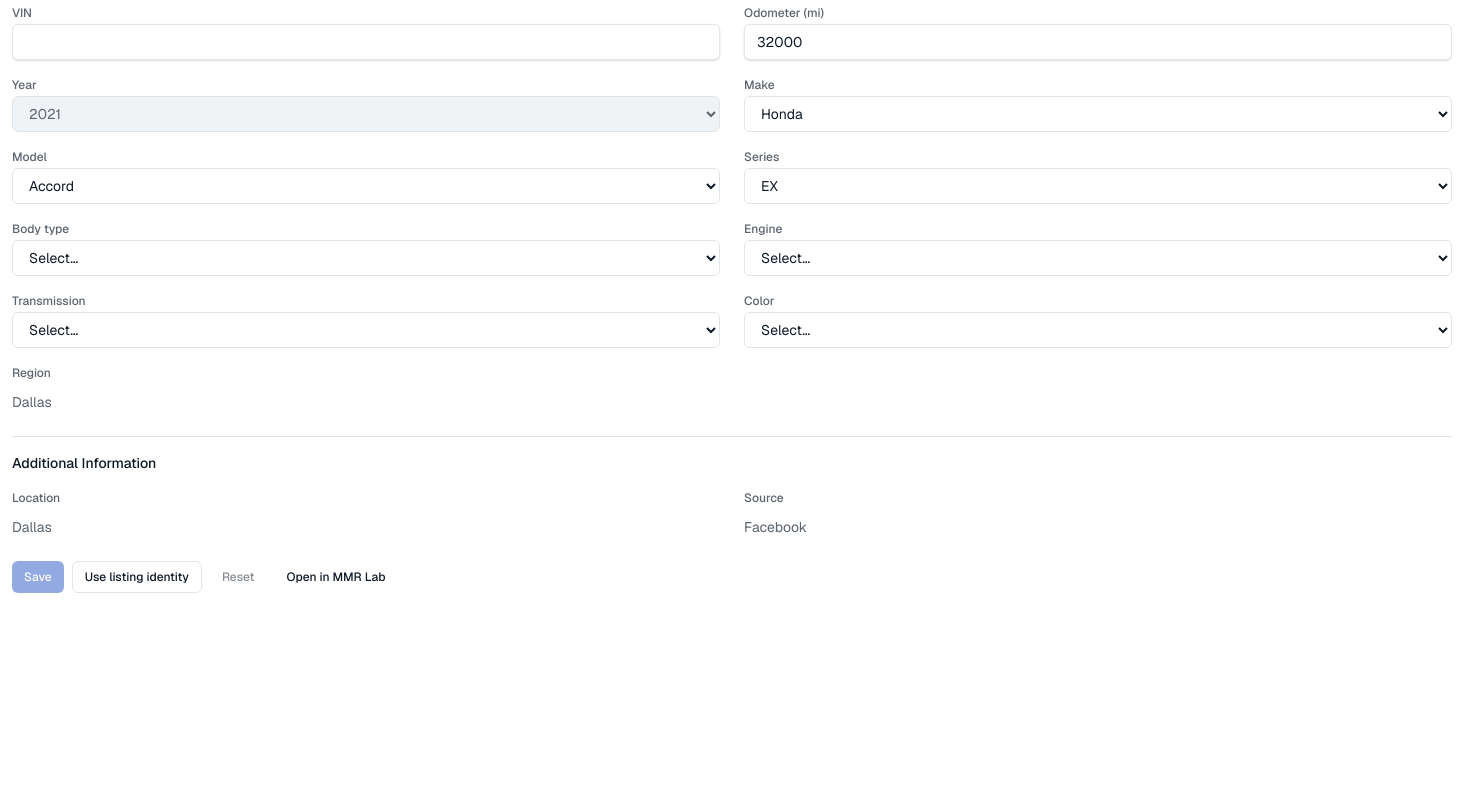
Test: OpportunityVehicleBlock › keeps VIN and existing YMM when decode fails
expect the dropdown labelled "Make" shows "Honda": met, box [744, 96, 1452, 132]
Type "7MUCAAAG7NV022177" into the field labelled "VIN" at [366, 42], box [12, 24, 720, 60]
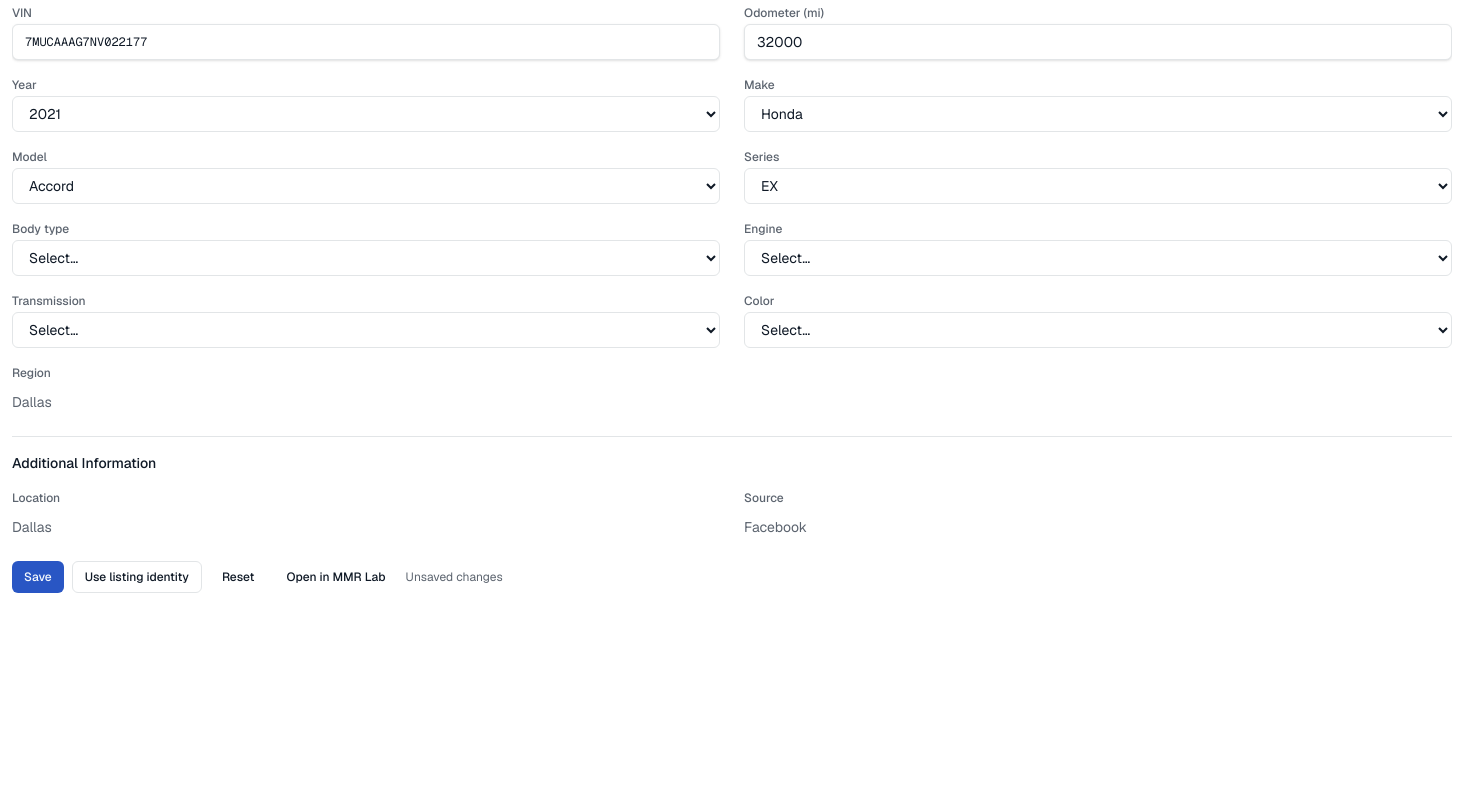
Click the button "Save" at [38, 577], box [12, 561, 64, 593]
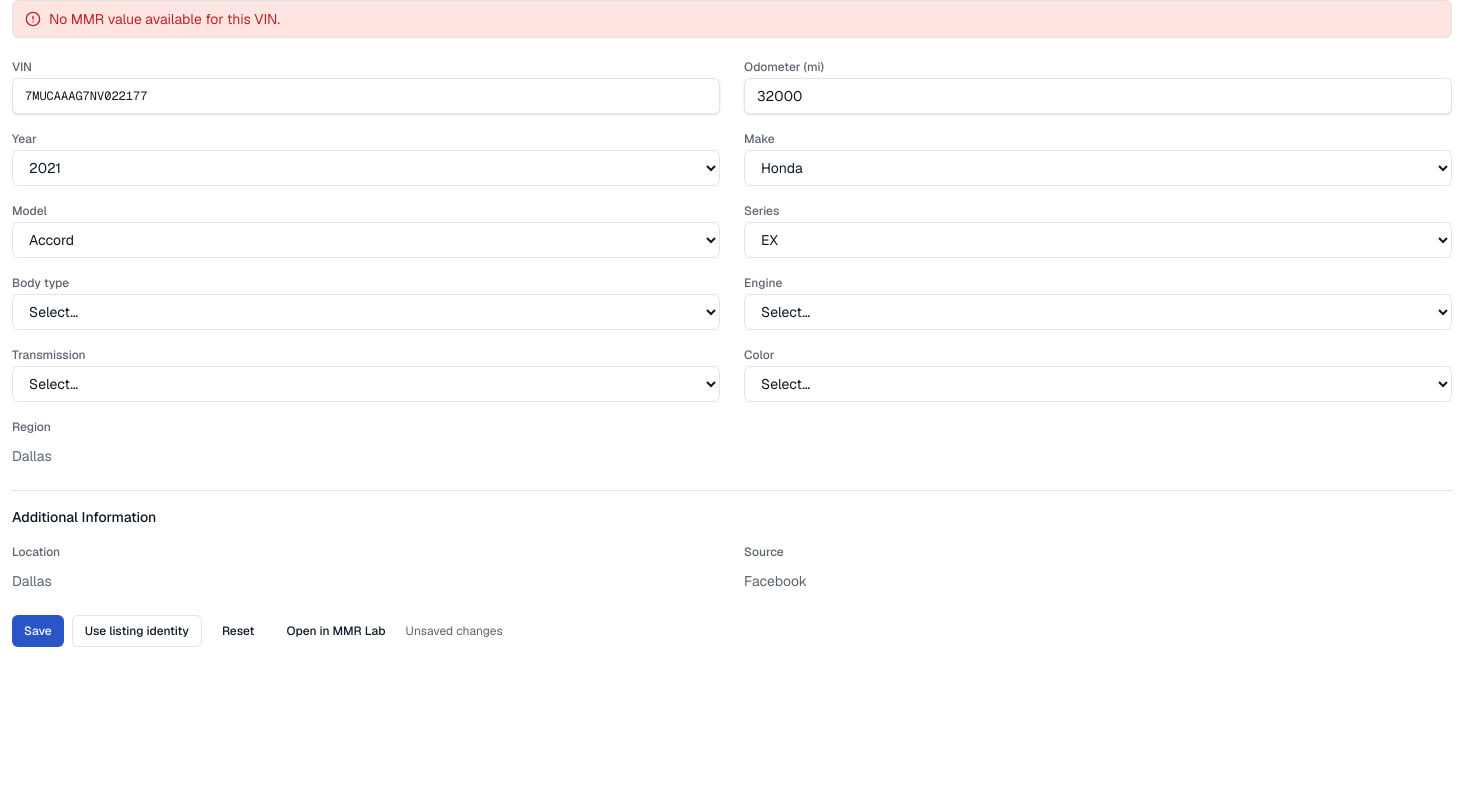
expect the dropdown labelled "Make" shows "Honda": met, box [744, 150, 1452, 186]
expect the text "No MMR value available for this VIN." is shown: met, box [49, 9, 280, 29]
